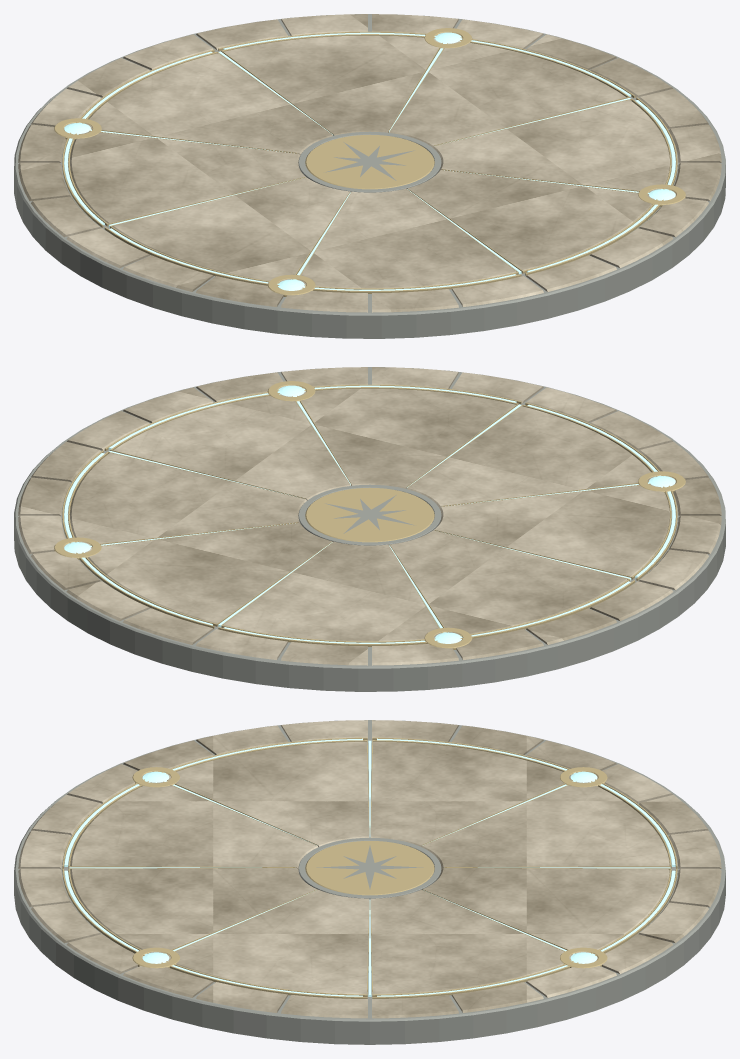
Rendered from arrival-dais-v03.glb.
The picture shows the model from 3 angles, top to bottom: view 1: azimuth 30°, elevation 25°; view 2: azimuth 150°, elevation 25°; view 3: azimuth 270°, elevation 25°; orthographic projection.
Parts seen in each view (by area): view 1: Arrival_Weathered, Arrival_Recessed, Arrival_Aged, Arrival_Seated; view 2: Arrival_Weathered, Arrival_Recessed, Arrival_Aged, Arrival_Seated; view 3: Arrival_Weathered, Arrival_Recessed, Arrival_Aged, Arrival_Seated.
Boxes of the visible parts, x1,y1,x2,y2 form: Arrival_Weathered: (18, 14, 721, 312); Arrival_Recessed: (14, 14, 725, 338); Arrival_Aged: (54, 28, 685, 296); Arrival_Seated: (64, 32, 675, 290); Arrival_Weathered: (18, 367, 721, 665); Arrival_Recessed: (14, 367, 725, 691); Arrival_Aged: (54, 381, 685, 649); Arrival_Seated: (64, 385, 675, 643); Arrival_Weathered: (18, 720, 721, 1018); Arrival_Recessed: (14, 720, 725, 1044); Arrival_Aged: (62, 737, 677, 998); Arrival_Seated: (64, 738, 675, 996).
Size of the model in its own units: 5.28 by 0.238 by 5.28.
Materials: 4 (1 with a texture image).
